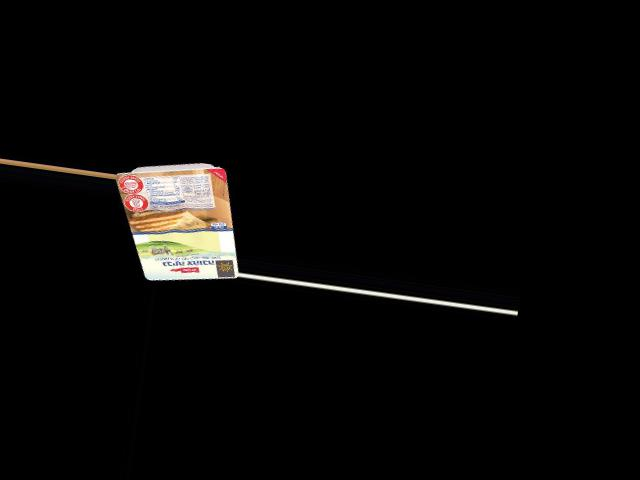cheese: (122, 157, 241, 289)
